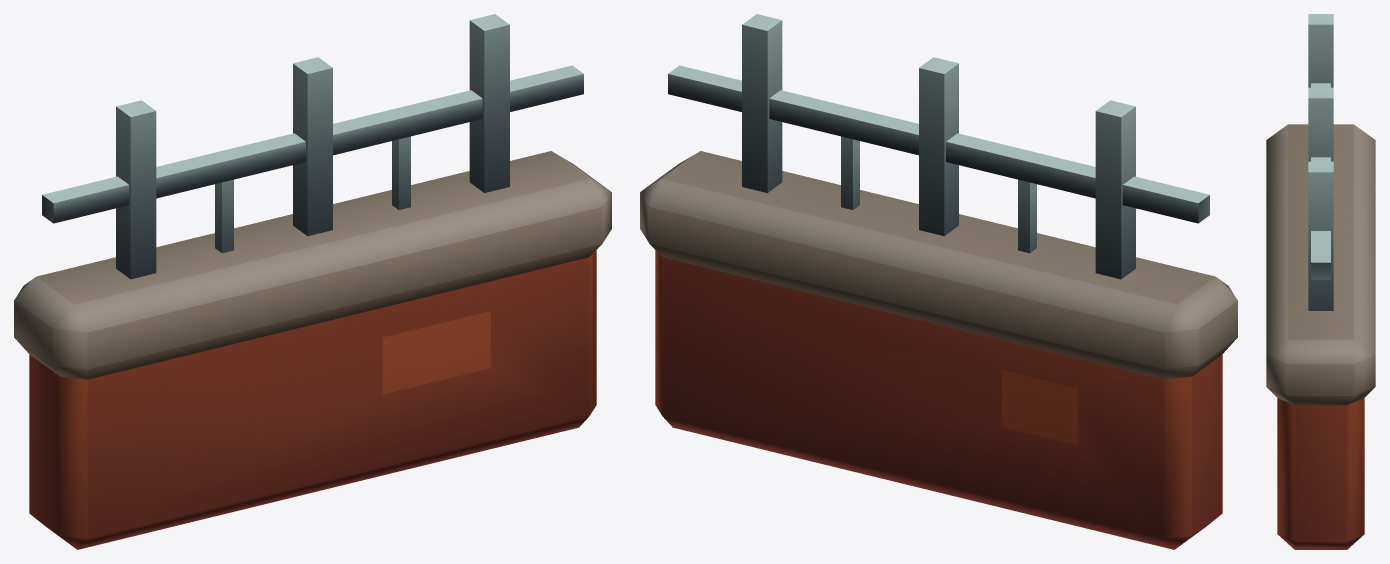
File: park_wall.fbx
3 views of the same model, side by side, from view 1: azimuth 30°, elevation 25°; view 2: azimuth 150°, elevation 25°; view 3: azimuth 270°, elevation 25° (orthographic). The views are drawn at different scales.
Parts seen in each view (by area): view 1: park_wall; view 2: park_wall; view 3: park_wall.
Part boxes in pixels (left/top/right/bottom): park_wall: left=14, top=14, right=611, bottom=549; park_wall: left=640, top=14, right=1237, bottom=549; park_wall: left=1266, top=14, right=1375, bottom=549.
Bounding box in the file's own units: 316 × 223 × 62.64.
